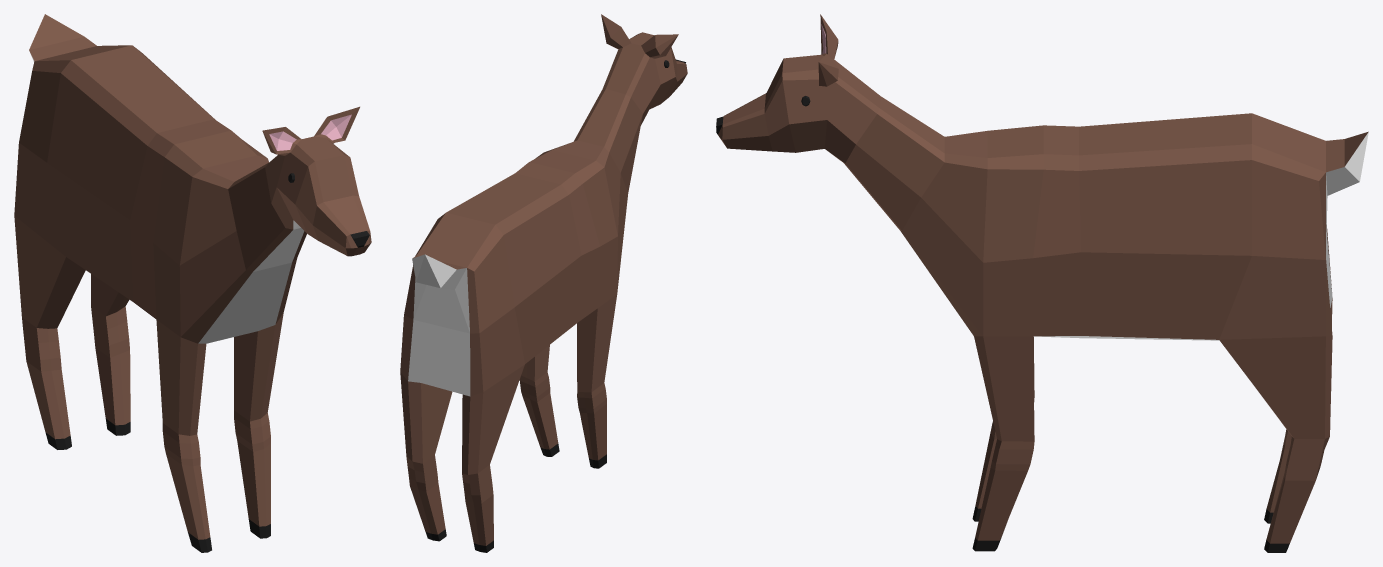
The model's file is animals-deer-068.glb.
The picture shows the model from 3 angles, left to right: view 1: azimuth 30°, elevation 25°; view 2: azimuth 150°, elevation 25°; view 3: azimuth 270°, elevation 25°; orthographic projection. The views are drawn at different scales.
Parts seen in each view (by area): view 1: Deer_01_Cube.053; view 2: Deer_01_Cube.053; view 3: Deer_01_Cube.053.
Boxes of the visible parts, x1,y1,x2,y2 form: Deer_01_Cube.053: (14,14,371,552); Deer_01_Cube.053: (400,14,687,552); Deer_01_Cube.053: (716,14,1368,552).
Size of the model in its own units: 2.39 by 10.08 by 12.
